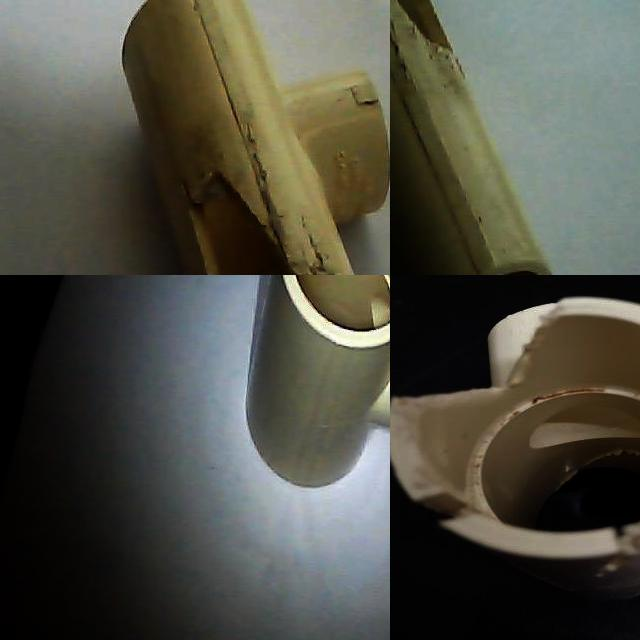Defective: (390, 305, 574, 442), (183, 169, 322, 275), (405, 477, 484, 559), (390, 0, 452, 50), (608, 512, 640, 597)
T Joint: (121, 0, 390, 275), (390, 0, 553, 275), (244, 275, 390, 492)
